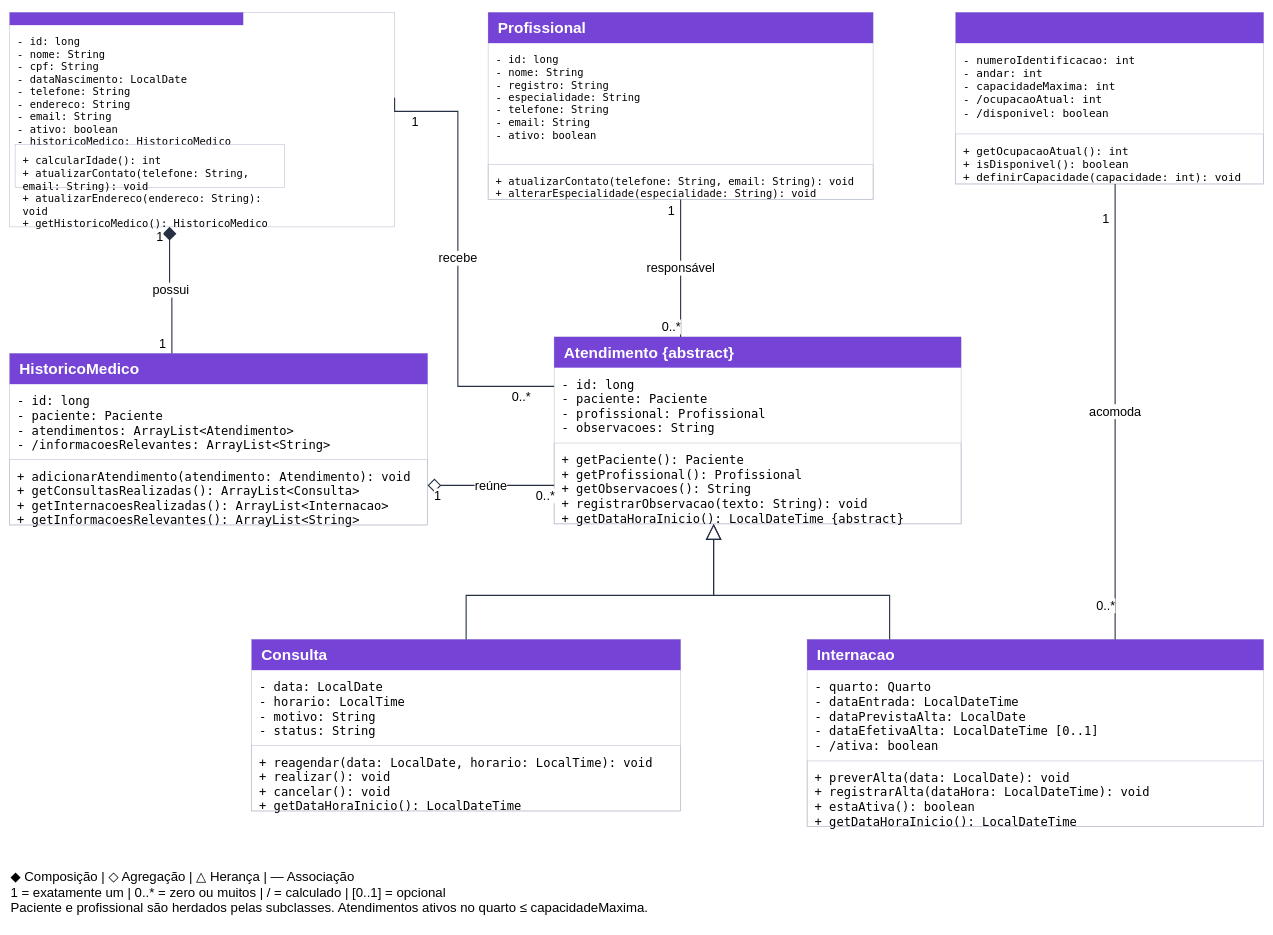
Image size: 1273x935. Some labels were removed from this diagram. The centre of each missing label's shape, as x and y in pixels:
Paciente: (126,18)
Quarto: (1109,27)
